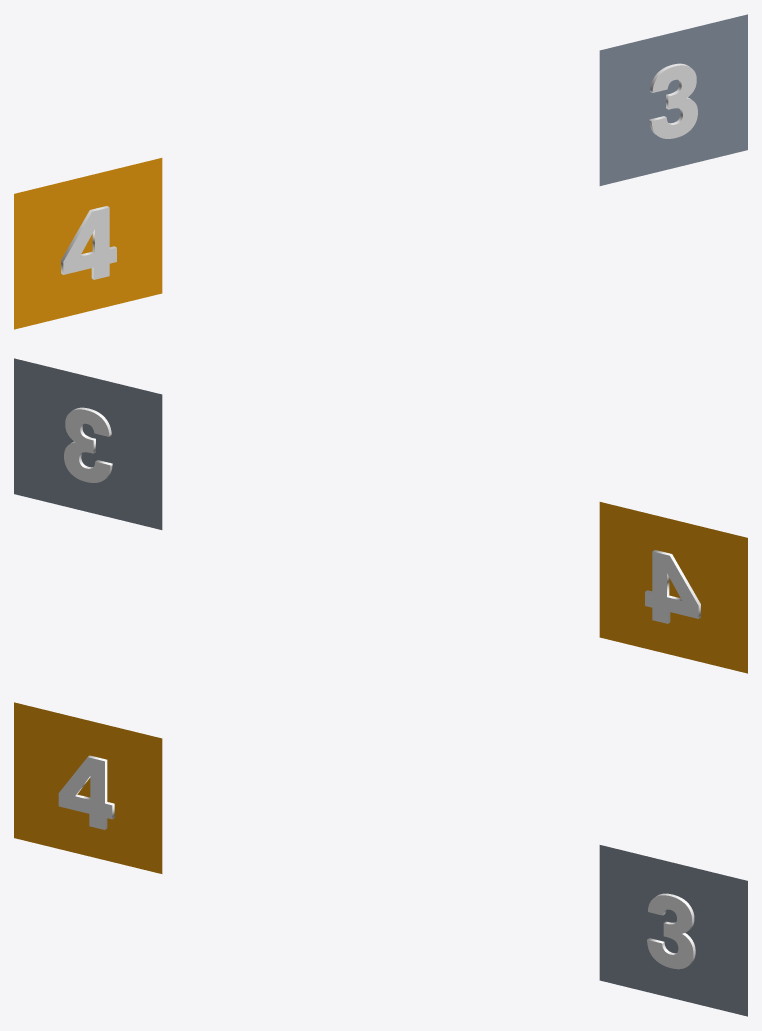
File: sayi3.gltf
3 renders of one model, top to bottom at view 1: azimuth 30°, elevation 25°; view 2: azimuth 150°, elevation 25°; view 3: azimuth 330°, elevation 25°, orthographic.
Visible parts, largest first — view 1: Plane.023, Plane.022, Text.069, Text.070; view 2: Plane.023, Plane.022, Text.069, Text.070; view 3: Plane.023, Plane.022, Text.069, Text.070.
Part boxes in pixels (bbox=[...]): Plane.023: bbox=[599, 14, 747, 185]; Plane.022: bbox=[14, 158, 162, 329]; Text.069: bbox=[61, 206, 116, 279]; Text.070: bbox=[649, 63, 697, 138]; Plane.023: bbox=[14, 358, 162, 529]; Plane.022: bbox=[599, 502, 747, 673]; Text.069: bbox=[645, 550, 700, 623]; Text.070: bbox=[64, 407, 112, 482]; Plane.023: bbox=[599, 845, 747, 1016]; Plane.022: bbox=[14, 702, 162, 873]; Text.069: bbox=[58, 755, 114, 829]; Text.070: bbox=[647, 893, 695, 969].
Size of the model in its own units: 0.396 by 0.0702 by 0.00435.
